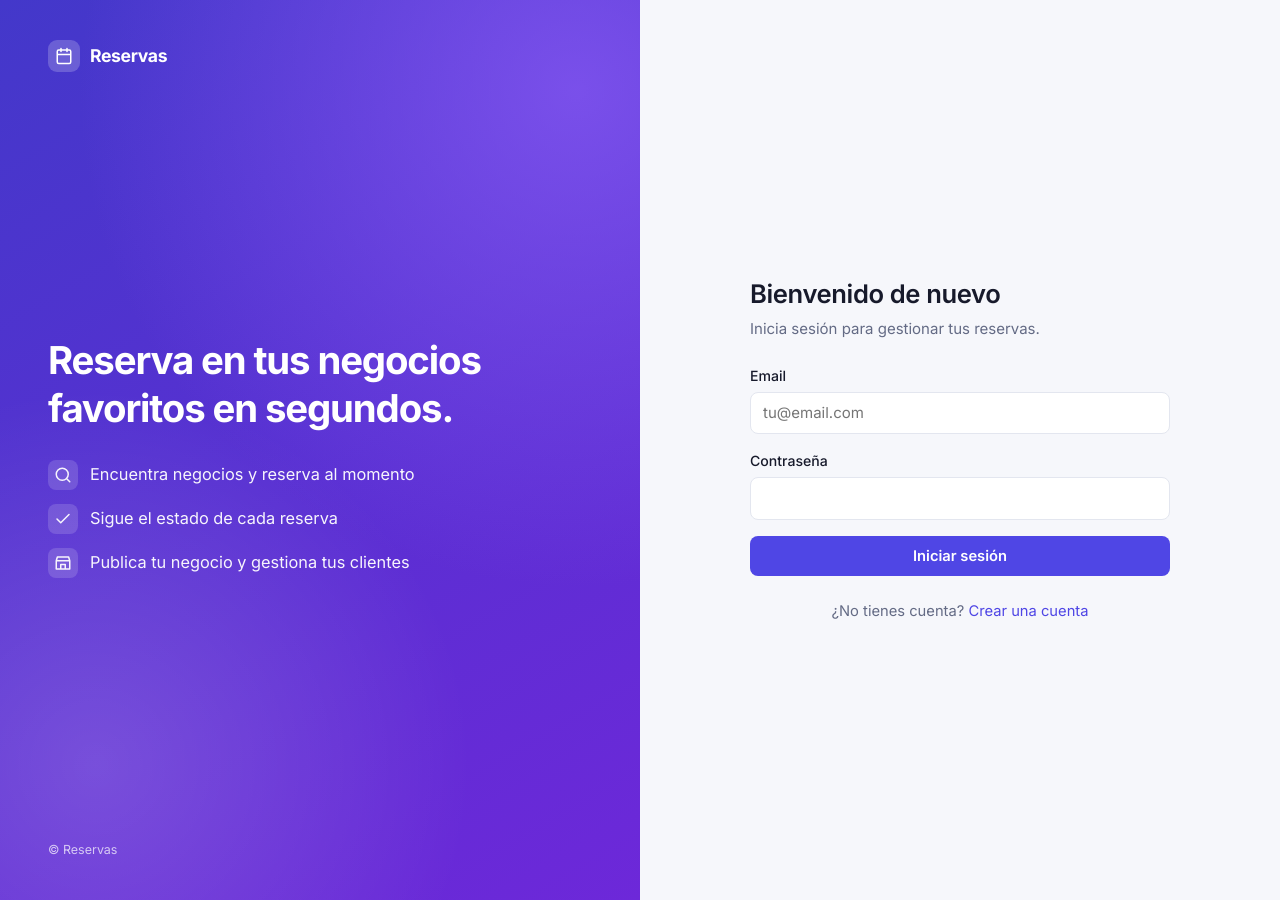
Test case: routing and auth › logs in and shows the business catalog
Type "ana@example.com" into the field labelled "Email" at (960, 413), box [750,392,1170,434]
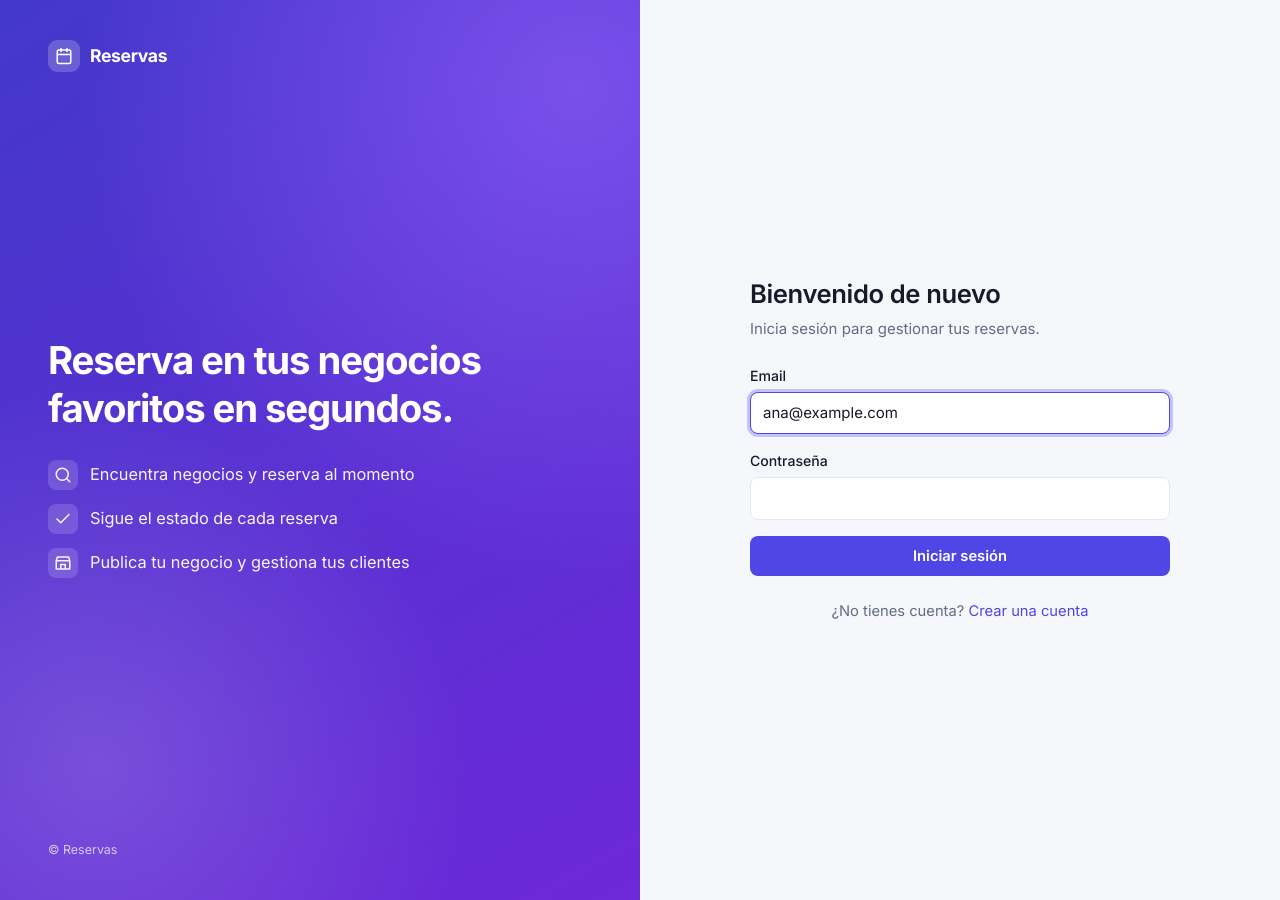
Type "Valid123!" into the password field labelled "Contraseña" at (960, 499), box [750,477,1170,520]
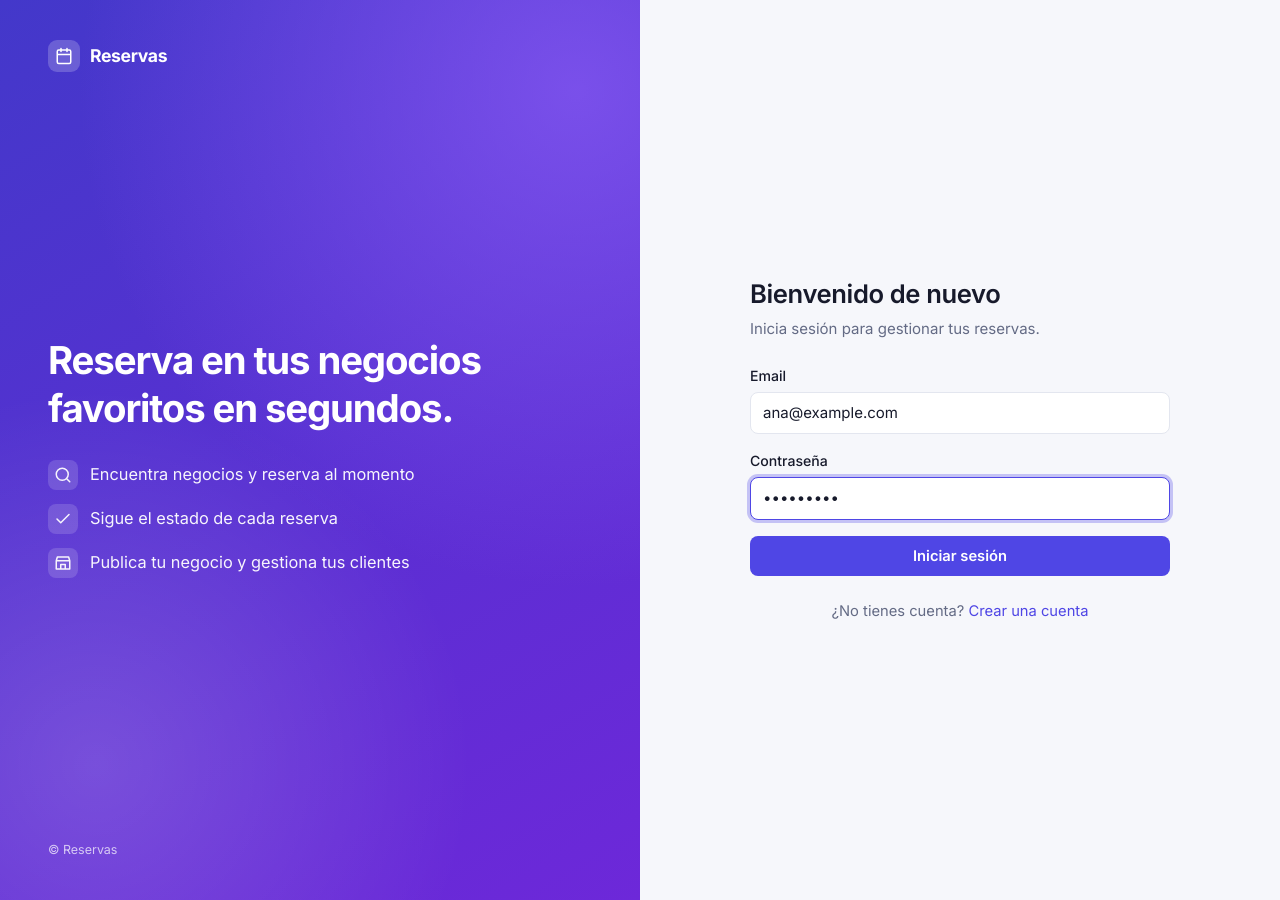
Click the button "Iniciar sesión" at (960, 556), box [750,536,1170,576]
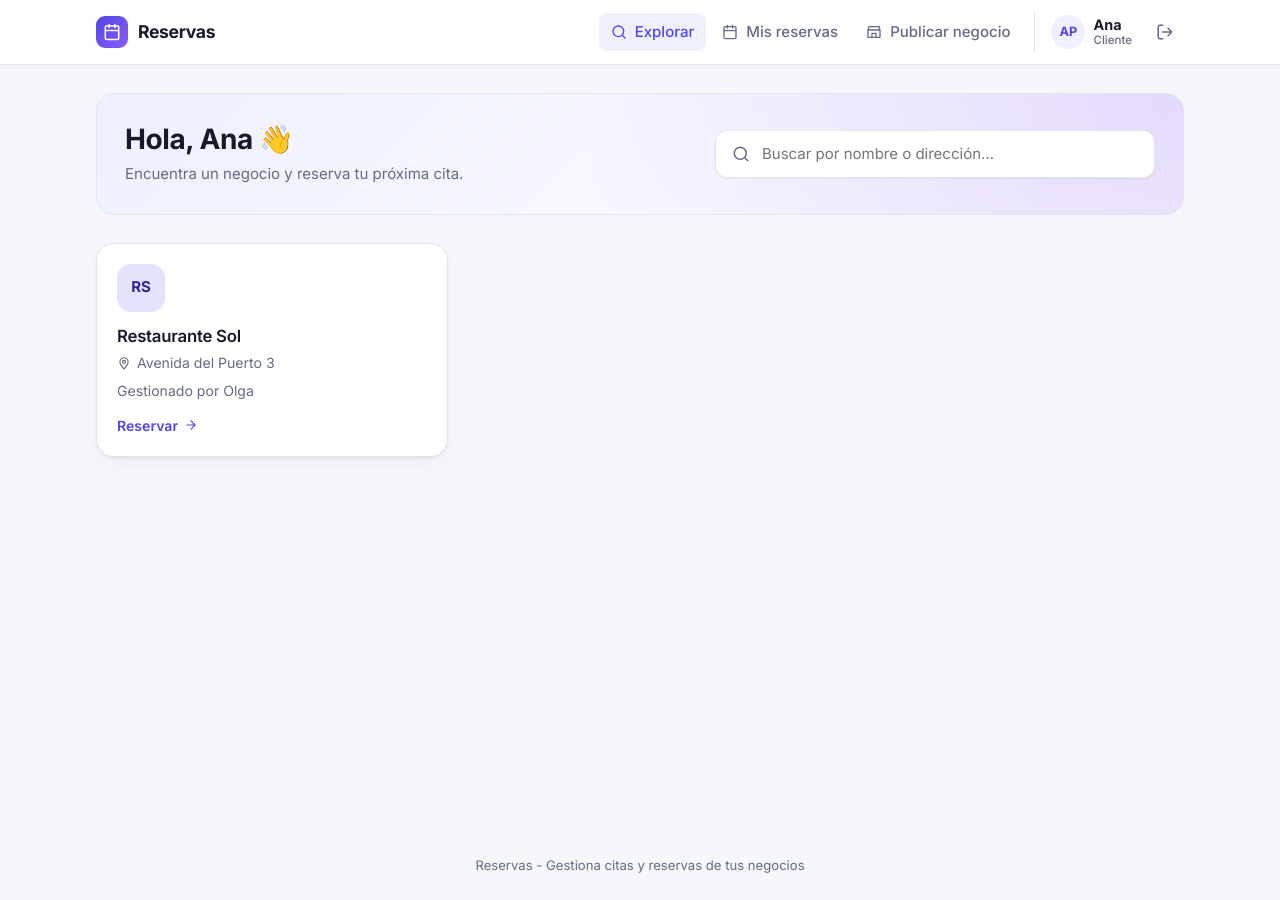
Now the heading "Restaurante Sol" is shown, box [117,326,241,346]
Now the link "Publicar negocio" is shown, box [866,22,1010,41]
